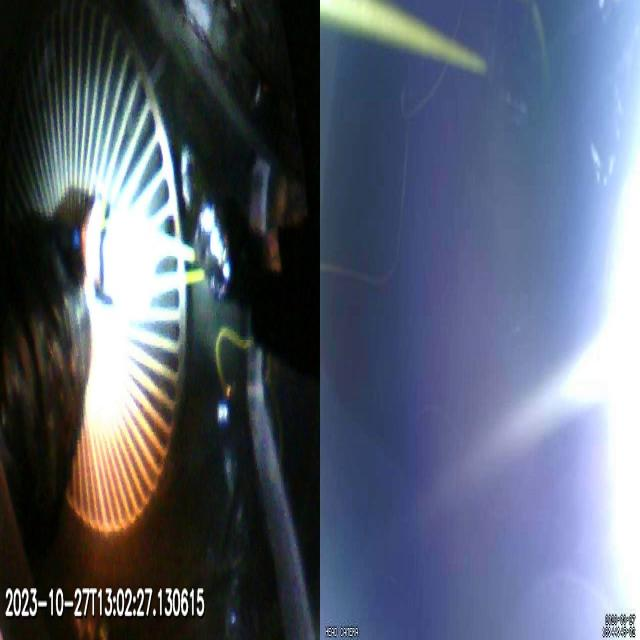head: (89, 196, 152, 303)
